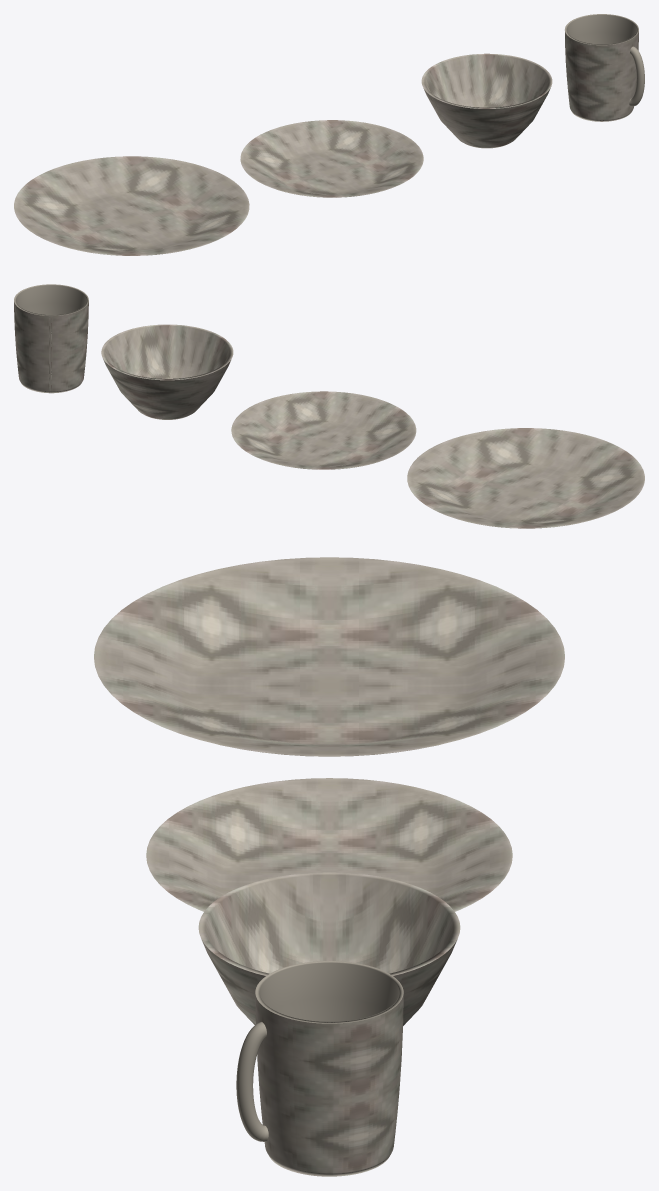
The model's file is MAR-10.glb.
3 views of the same model, one above another, from view 1: azimuth 30°, elevation 25°; view 2: azimuth 150°, elevation 25°; view 3: azimuth 270°, elevation 25° (orthographic). The views are drawn at different scales.
Size of the model in its own units: 0.7995 by 0.1 by 0.27.
9 materials, 7 textured.
